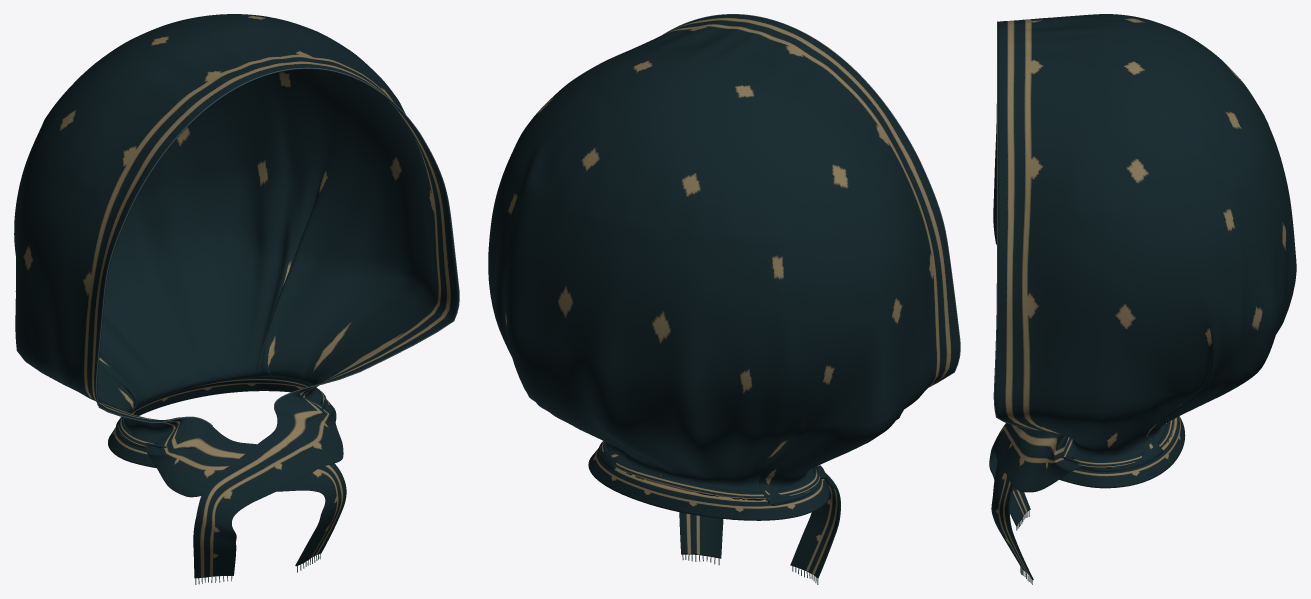
Rendered from Feminine-tshirt-pashmina241-headgear.glb.
3 renders of one model, left to right at view 1: azimuth 30°, elevation 25°; view 2: azimuth 150°, elevation 25°; view 3: azimuth 270°, elevation 25°, orthographic. The views are drawn at different scales.
Visible parts, largest first — view 1: 226 headgear / Headwear / continuous woven pashmina239, 226 headgear / Headwear / face edge239; view 2: 226 headgear / Headwear / continuous woven pashmina239, 226 headgear / Headwear / face edge239; view 3: 226 headgear / Headwear / continuous woven pashmina239, 226 headgear / Headwear / face edge239.
Boxes of the visible parts, x1,y1,x2,y2 form: 226 headgear / Headwear / continuous woven pashmina239: (14,14,458,578); 226 headgear / Headwear / face edge239: (95,67,459,425); 226 headgear / Headwear / continuous woven pashmina239: (488,14,959,578); 226 headgear / Headwear / face edge239: (663,14,960,387); 226 headgear / Headwear / continuous woven pashmina239: (989,14,1296,579); 226 headgear / Headwear / face edge239: (993,21,1044,430).
Bounding box in the file's own units: 1.02 × 1.35 × 0.721.
Materials: 3 (1 with a texture image).
